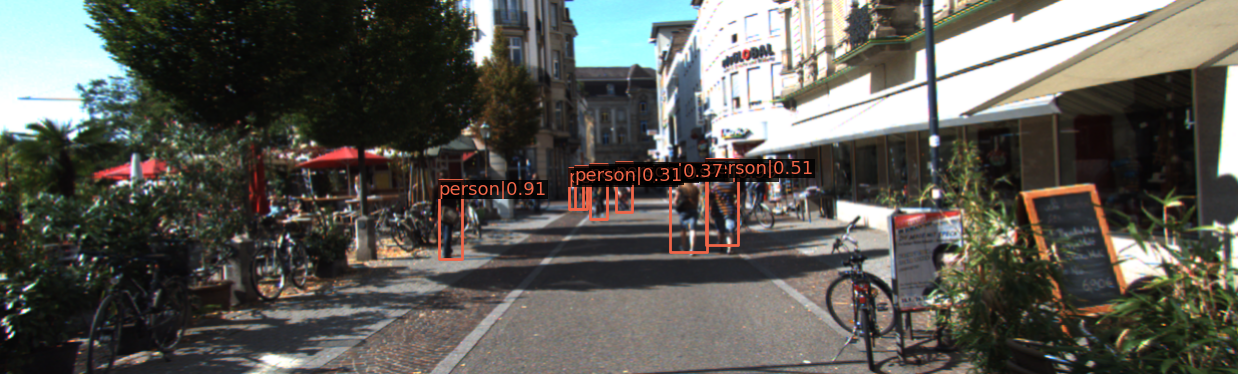person: (714, 161, 751, 255), (432, 164, 468, 260), (679, 164, 711, 255), (753, 167, 765, 211)
